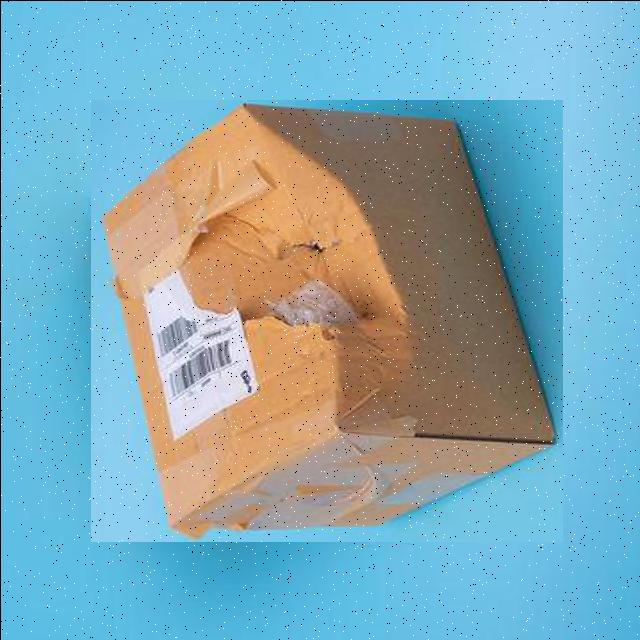defect: (90, 99, 562, 541)
